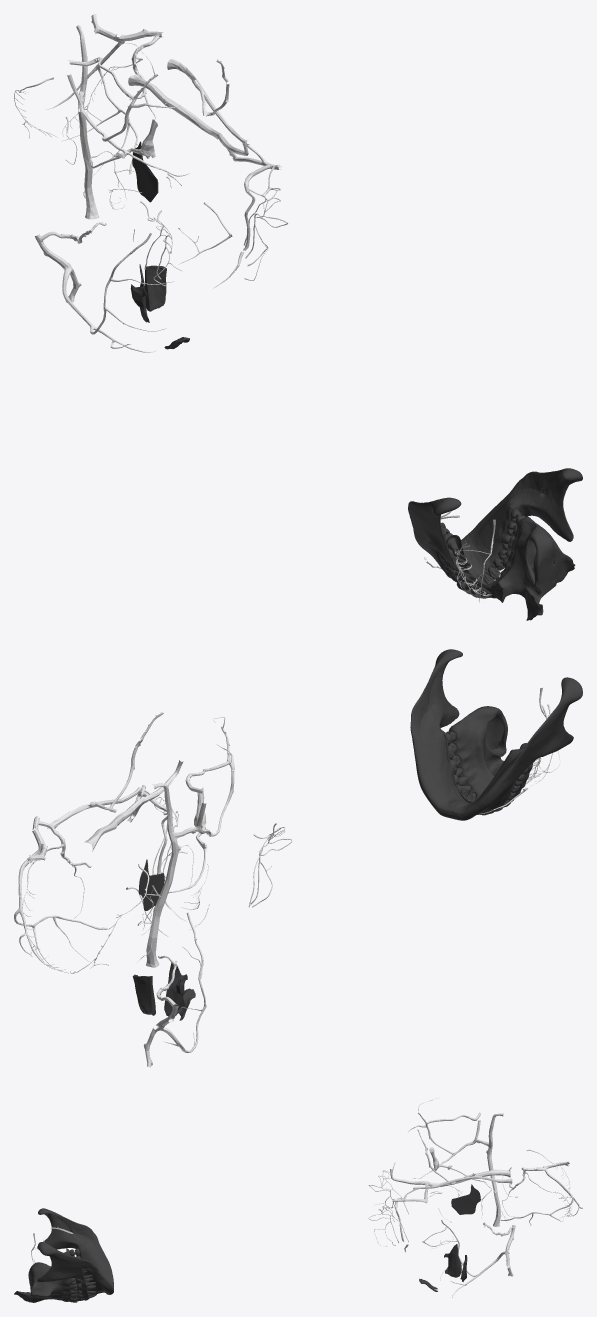
Rendered from sharedassets66.glb.
3 views of the same model, one above another, from view 1: azimuth 30°, elevation 25°; view 2: azimuth 150°, elevation 25°; view 3: azimuth 270°, elevation 25° (orthographic). The views are drawn at different scales.
Parts seen in each view (by area): view 1: 0041_Mandible, body, R__302694, 0098_Maxilla, L_ body_001063_004, 0126_Mandible, body, L__302695, 0131_Internal jugular, R__000504, 0079_Maxilla, R_body_001078_004, 0031_Internal jugular, L__000526, 0021_Ethmoid, perpendicular plate__001139; view 2: 0041_Mandible, body, R__302694, 0126_Mandible, body, L__302695, 0098_Maxilla, L_ body_001063_004, 0131_Internal jugular, R__000504, 0031_Internal jugular, L__000526, 0125_Gingiva, upper left portion__302677, 0021_Ethmoid, perpendicular plate__001139, 0079_Maxilla, R_body_001078_004, 0035_Maxilla, hard palate, L__001065, 0120_Maxillary sinus, L__001064, 0056_Pterygoid plexus, R__300505, 0078_Nasal concha _turbinate_, inferior _lowe; view 3: 0126_Mandible, body, L__302695, 0041_Mandible, body, R__302694, 0098_Maxilla, L_ body_001063_004, 0021_Ethmoid, perpendicular plate__001139, 0131_Internal jugular, R__000504, 0031_Internal jugular, L__000526, 0079_Maxilla, R_body_001078_004, 0000_Nasal concha _turbinate_, inferior _lowe, 0006_External jugular, L__000528.
Part boxes in pixels (<box>): 0041_Mandible, body, R__302694: <box>461,468,582,568</box>; 0098_Maxilla, L_ body_001063_004: <box>486,517,574,620</box>; 0126_Mandible, body, L__302695: <box>408,497,470,569</box>; 0131_Internal jugular, R__000504: <box>76,25,99,219</box>; 0079_Maxilla, R_body_001078_004: <box>487,518,574,620</box>; 0031_Internal jugular, L__000526: <box>128,74,248,155</box>; 0021_Ethmoid, perpendicular plate__001139: <box>132,141,158,202</box>; 0041_Mandible, body, R__302694: <box>410,649,468,818</box>; 0126_Mandible, body, L__302695: <box>451,677,582,820</box>; 0098_Maxilla, L_ body_001063_004: <box>454,706,507,787</box>; 0131_Internal jugular, R__000504: <box>146,783,180,967</box>; 0031_Internal jugular, L__000526: <box>84,760,183,851</box>; 0125_Gingiva, upper left portion__302677: <box>448,725,485,800</box>; 0021_Ethmoid, perpendicular plate__001139: <box>139,859,164,910</box>; 0079_Maxilla, R_body_001078_004: <box>457,706,507,788</box>; 0035_Maxilla, hard palate, L__001065: <box>133,974,155,1015</box>; 0120_Maxillary sinus, L__001064: <box>485,714,505,751</box>; 0056_Pterygoid plexus, R__300505: <box>248,823,292,907</box>; 0078_Nasal concha _turbinate_, inferior _lowe: <box>164,963,186,1016</box>; 0126_Mandible, body, L__302695: <box>37,1208,113,1287</box>; 0041_Mandible, body, R__302694: <box>37,1242,113,1299</box>; 0098_Maxilla, L_ body_001063_004: <box>14,1262,66,1302</box>; 0021_Ethmoid, perpendicular plate__001139: <box>451,1184,480,1214</box>; 0131_Internal jugular, R__000504: <box>486,1113,503,1226</box>; 0031_Internal jugular, L__000526: <box>390,1169,510,1186</box>; 0079_Maxilla, R_body_001078_004: <box>14,1263,66,1302</box>; 0000_Nasal concha _turbinate_, inferior _lowe: <box>444,1244,461,1277</box>; 0006_External jugular, L__000528: <box>412,1176,512,1190</box>.
Bounding box in the file's own units: 0.053 × 0.1138 × 0.3059.
1 material, 1 textured.
